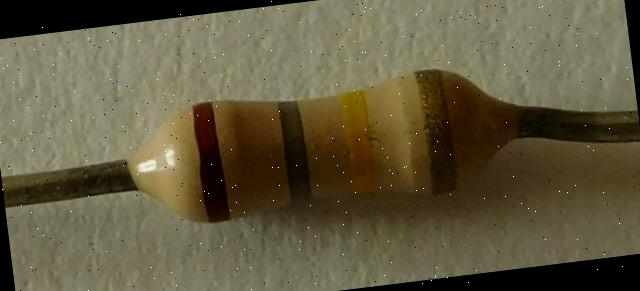brown: (191, 100, 232, 225)
gold: (414, 67, 459, 194)
grey: (277, 98, 313, 199)
resistor: (117, 36, 532, 259)
yellow: (339, 85, 373, 194)
